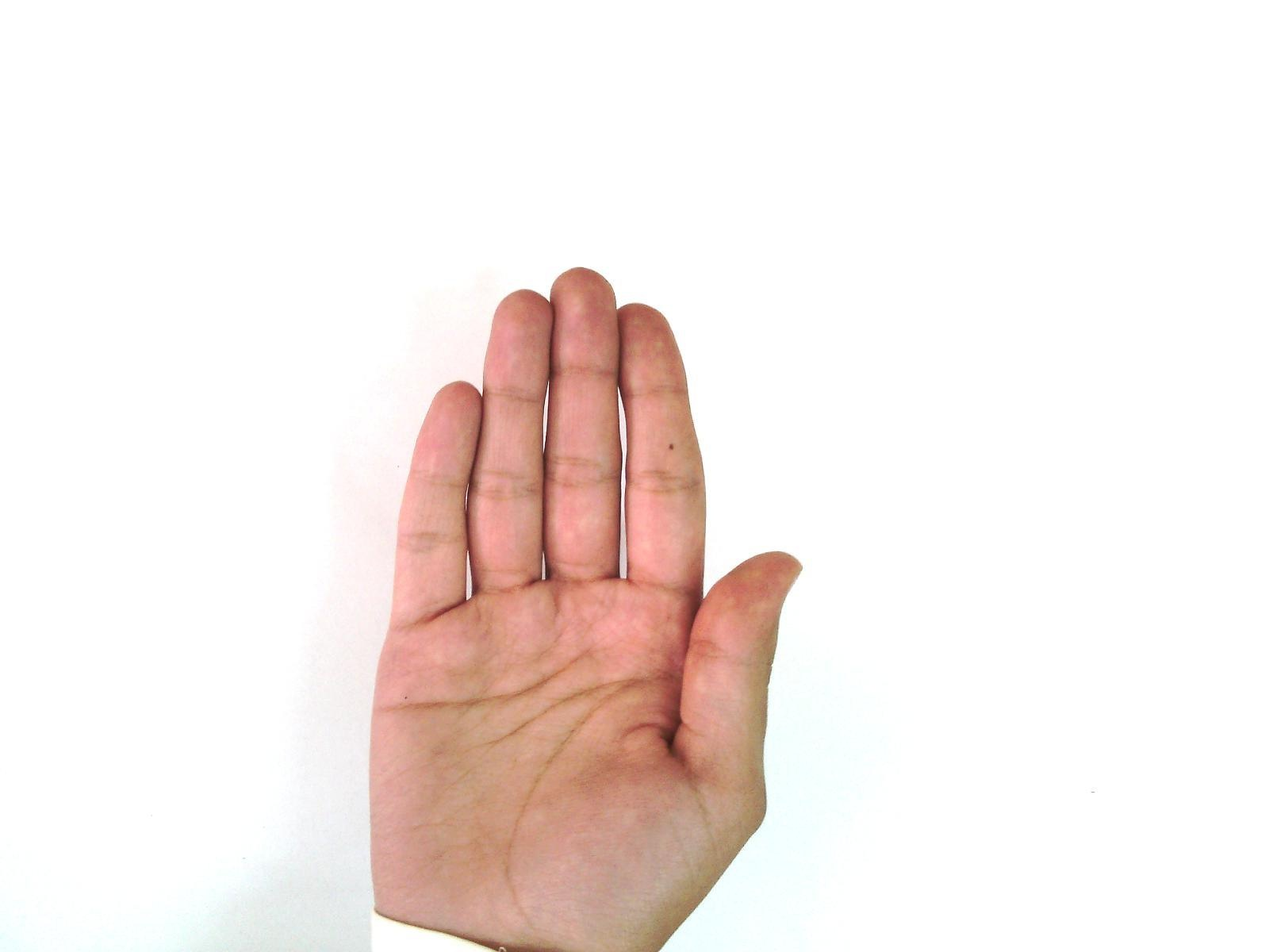open_palm: (365, 267, 805, 951)
